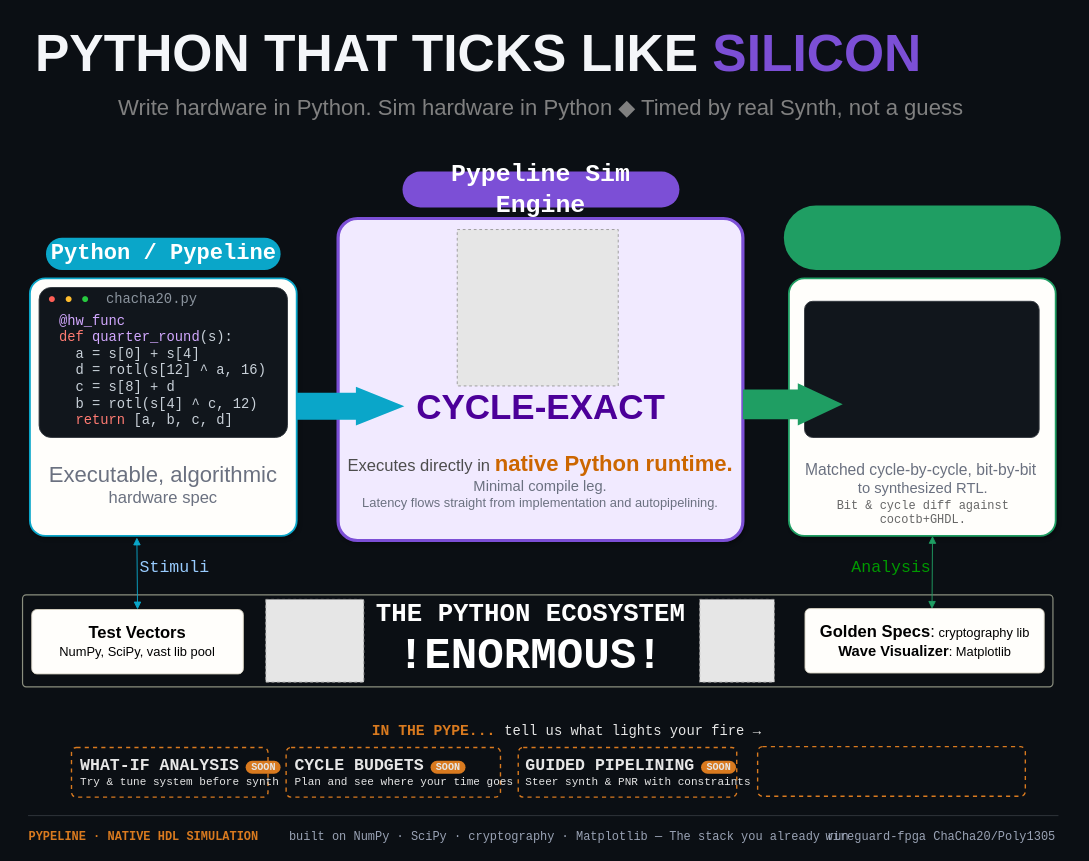
This 1089x861 diagram has some shape labels left out. Grey dashed boxes stand in for pictures. The centre of each missing label's shape, as x and y in pixels:
"Automated + Interactive Validation" belongs at point 921,237.
"Constrained-RND, FunCov SOON Getting more into UVM, UVVM" belongs at point 891,771.
"sim_assert() stop/resume breakpoints scoreboard" belongs at point 921,368.
